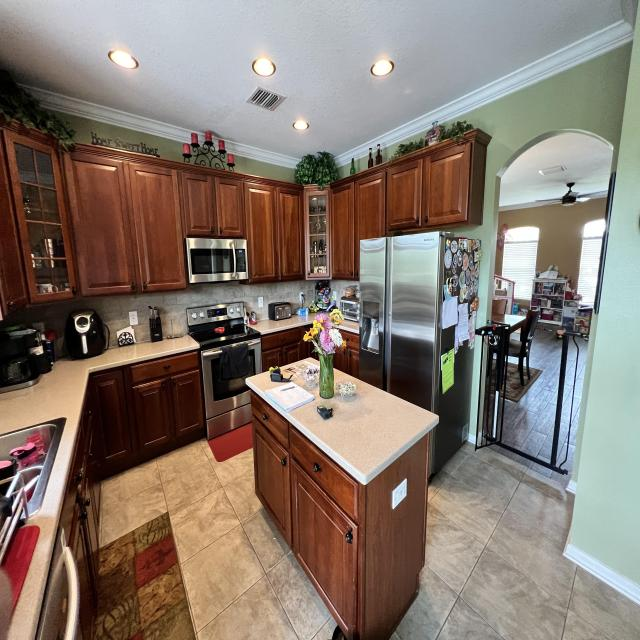Appliance_Dishwasher: (35, 530, 79, 640)
Appliance_Fridge: (359, 232, 481, 475)
Appliance_Microwave: (186, 237, 249, 286)
Appliance_Oven: (186, 303, 264, 441)
Appliance_Sink: (0, 418, 66, 520)
Cabinet_Glass: (0, 125, 75, 301), (305, 184, 332, 281)
Cabinet_Raised_Panel: (253, 394, 432, 640), (61, 348, 205, 639), (70, 145, 308, 296), (328, 130, 484, 280), (0, 132, 31, 306), (261, 323, 319, 373), (334, 332, 359, 378)
Countertop_Granite: (0, 336, 200, 640), (246, 372, 439, 485), (256, 318, 311, 336)
